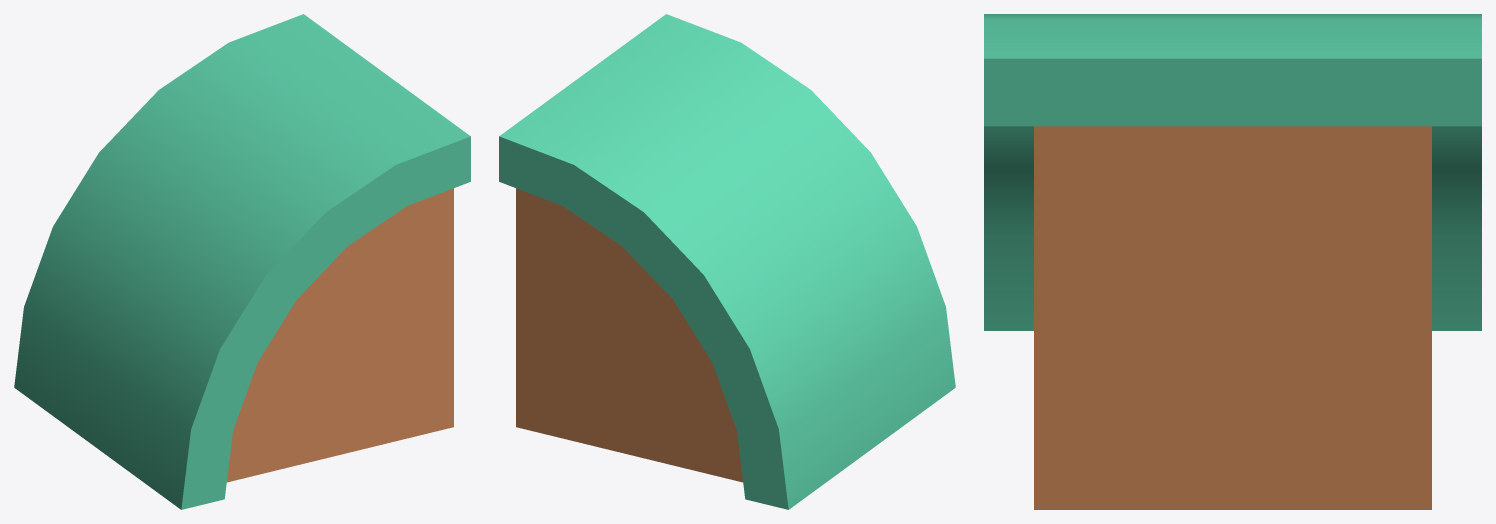
The model's file is blockCurveHalf.fbx.
The picture shows the model from 3 angles, left to right: view 1: azimuth 30°, elevation 25°; view 2: azimuth 150°, elevation 25°; view 3: azimuth 270°, elevation 25°; orthographic projection. The views are drawn at different scales.
Visible parts, largest first — view 1: blockCurveHalf; view 2: blockCurveHalf; view 3: blockCurveHalf.
Part boxes in pixels (x1,y1,x2,y2): blockCurveHalf: [14, 14, 470, 509]; blockCurveHalf: [499, 14, 955, 509]; blockCurveHalf: [984, 14, 1481, 509].
Size of the model in its own units: 10 by 10 by 10.
